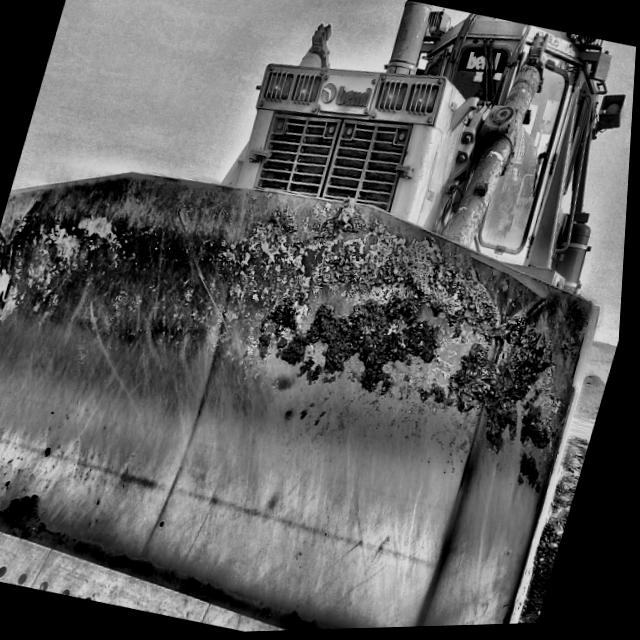buldozerpayloadergrader: (0, 3, 624, 633)
